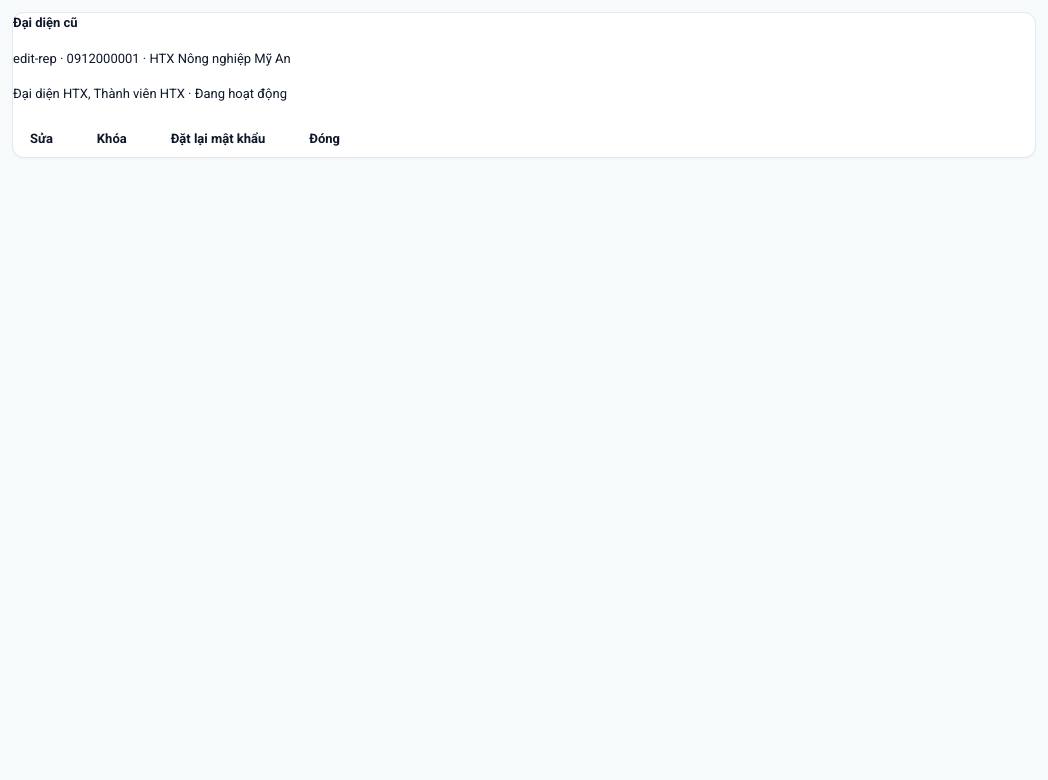
it: [AH-223 FN-TK-02/BR-04] chi tiết lấy SĐT đầy đủ từ máy chủ dù danh sách đã che; form sửa dùng SĐT đầy đủ
Expected: the text "edit-rep · 0912000001 · HTX Nông nghiệp Mỹ An" is shown, x1=13 y1=50 x2=291 y2=66
Click the button "Sửa": (41, 138) x1=13 y1=120 x2=70 y2=157
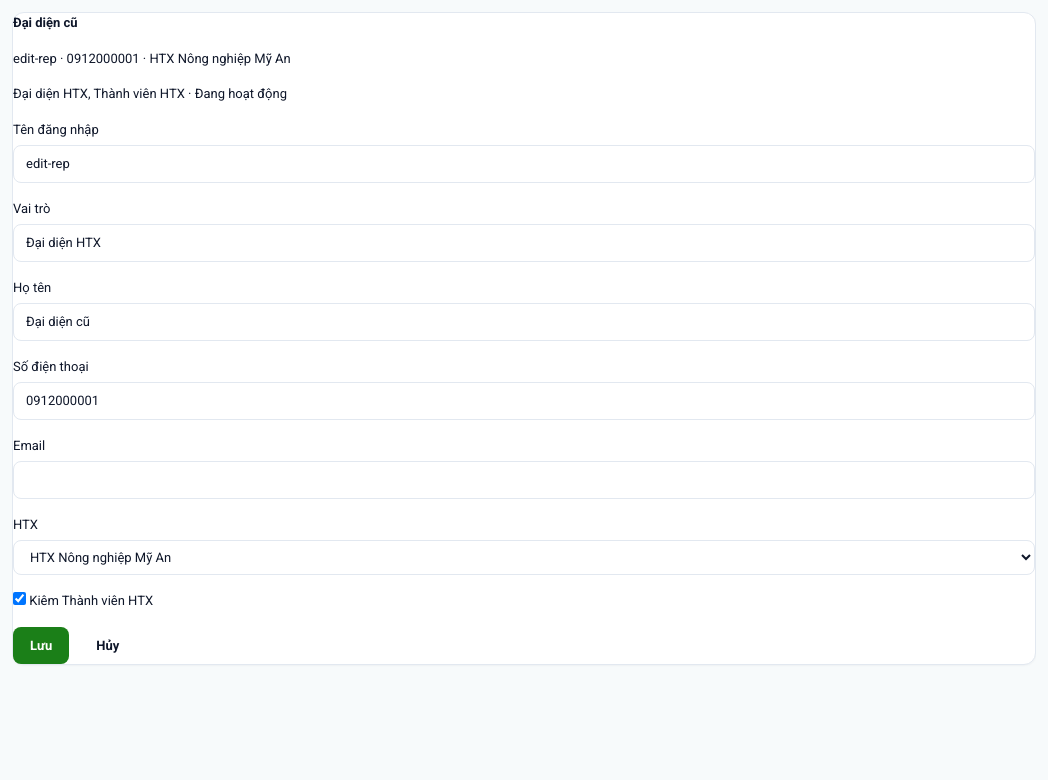
Expected: the field labelled "Số điện thoại" holds "0912000001", x1=13 y1=382 x2=1035 y2=420
